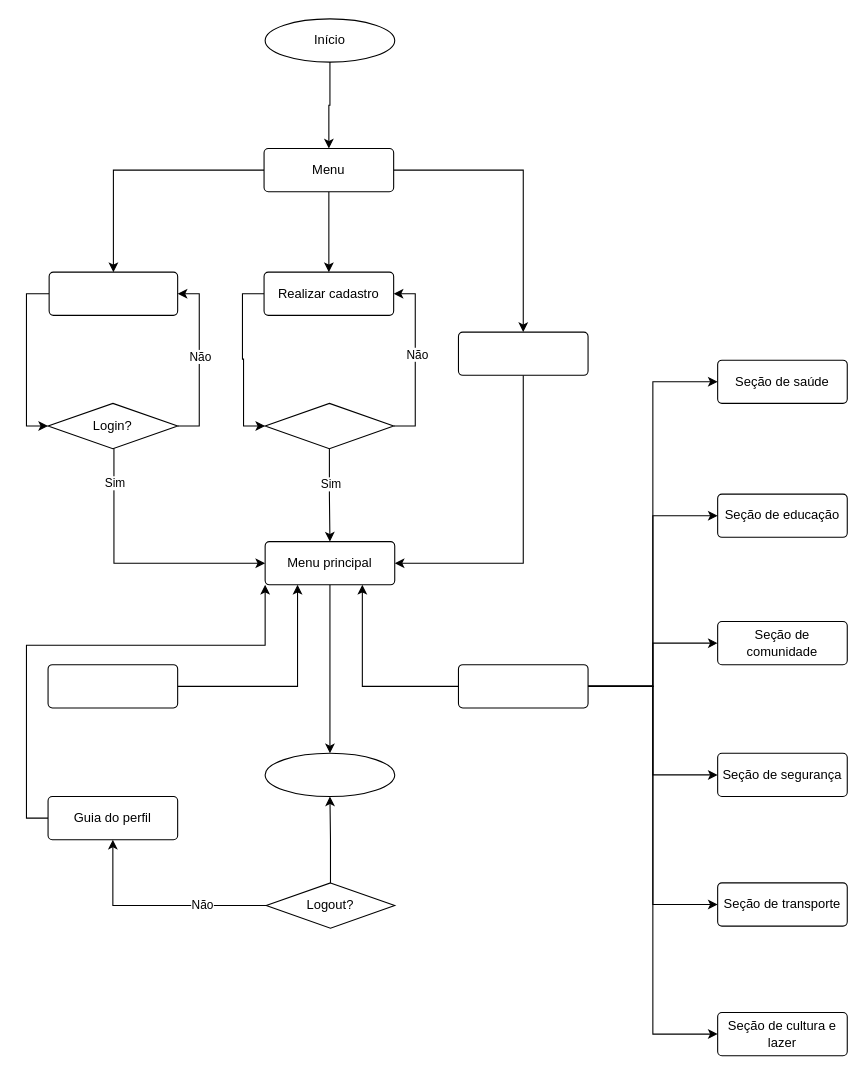
The diagram is 866 pixels wide and 1075 high, and some of its shapes have lost their labels. The shapes that lost their labels are listed below. From the top down, each one's centre as x and y in pixels, then its label:
pixel 113 293: Realizar login
pixel 522 353: Acessar como visitante
pixel 329 425: Cadastro?
pixel 112 686: Guia do mapa
pixel 522 686: Guia de serviços
pixel 329 774: Fim
